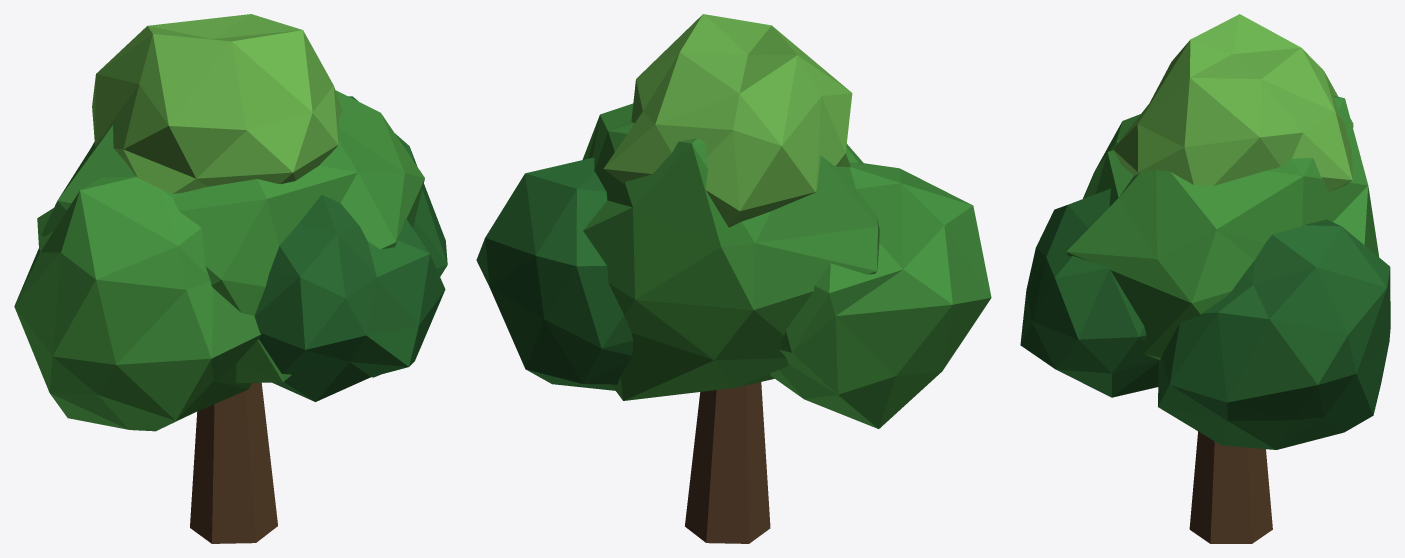
Rendered from Scatter_OakA.fbx.
3 renders of one model, left to right at view 1: azimuth 30°, elevation 25°; view 2: azimuth 150°, elevation 25°; view 3: azimuth 270°, elevation 25°, orthographic. The views are drawn at different scales.
Visible parts, largest first — view 1: OakA; view 2: OakA; view 3: OakA.
Part boxes in pixels (x1=…): OakA: x1=14, y1=14, x2=447, y2=543; OakA: x1=476, y1=14, x2=991, y2=543; OakA: x1=1020, y1=14, x2=1390, y2=543.
Size of the model in its own units: 17.25 by 19.09 by 13.31.
